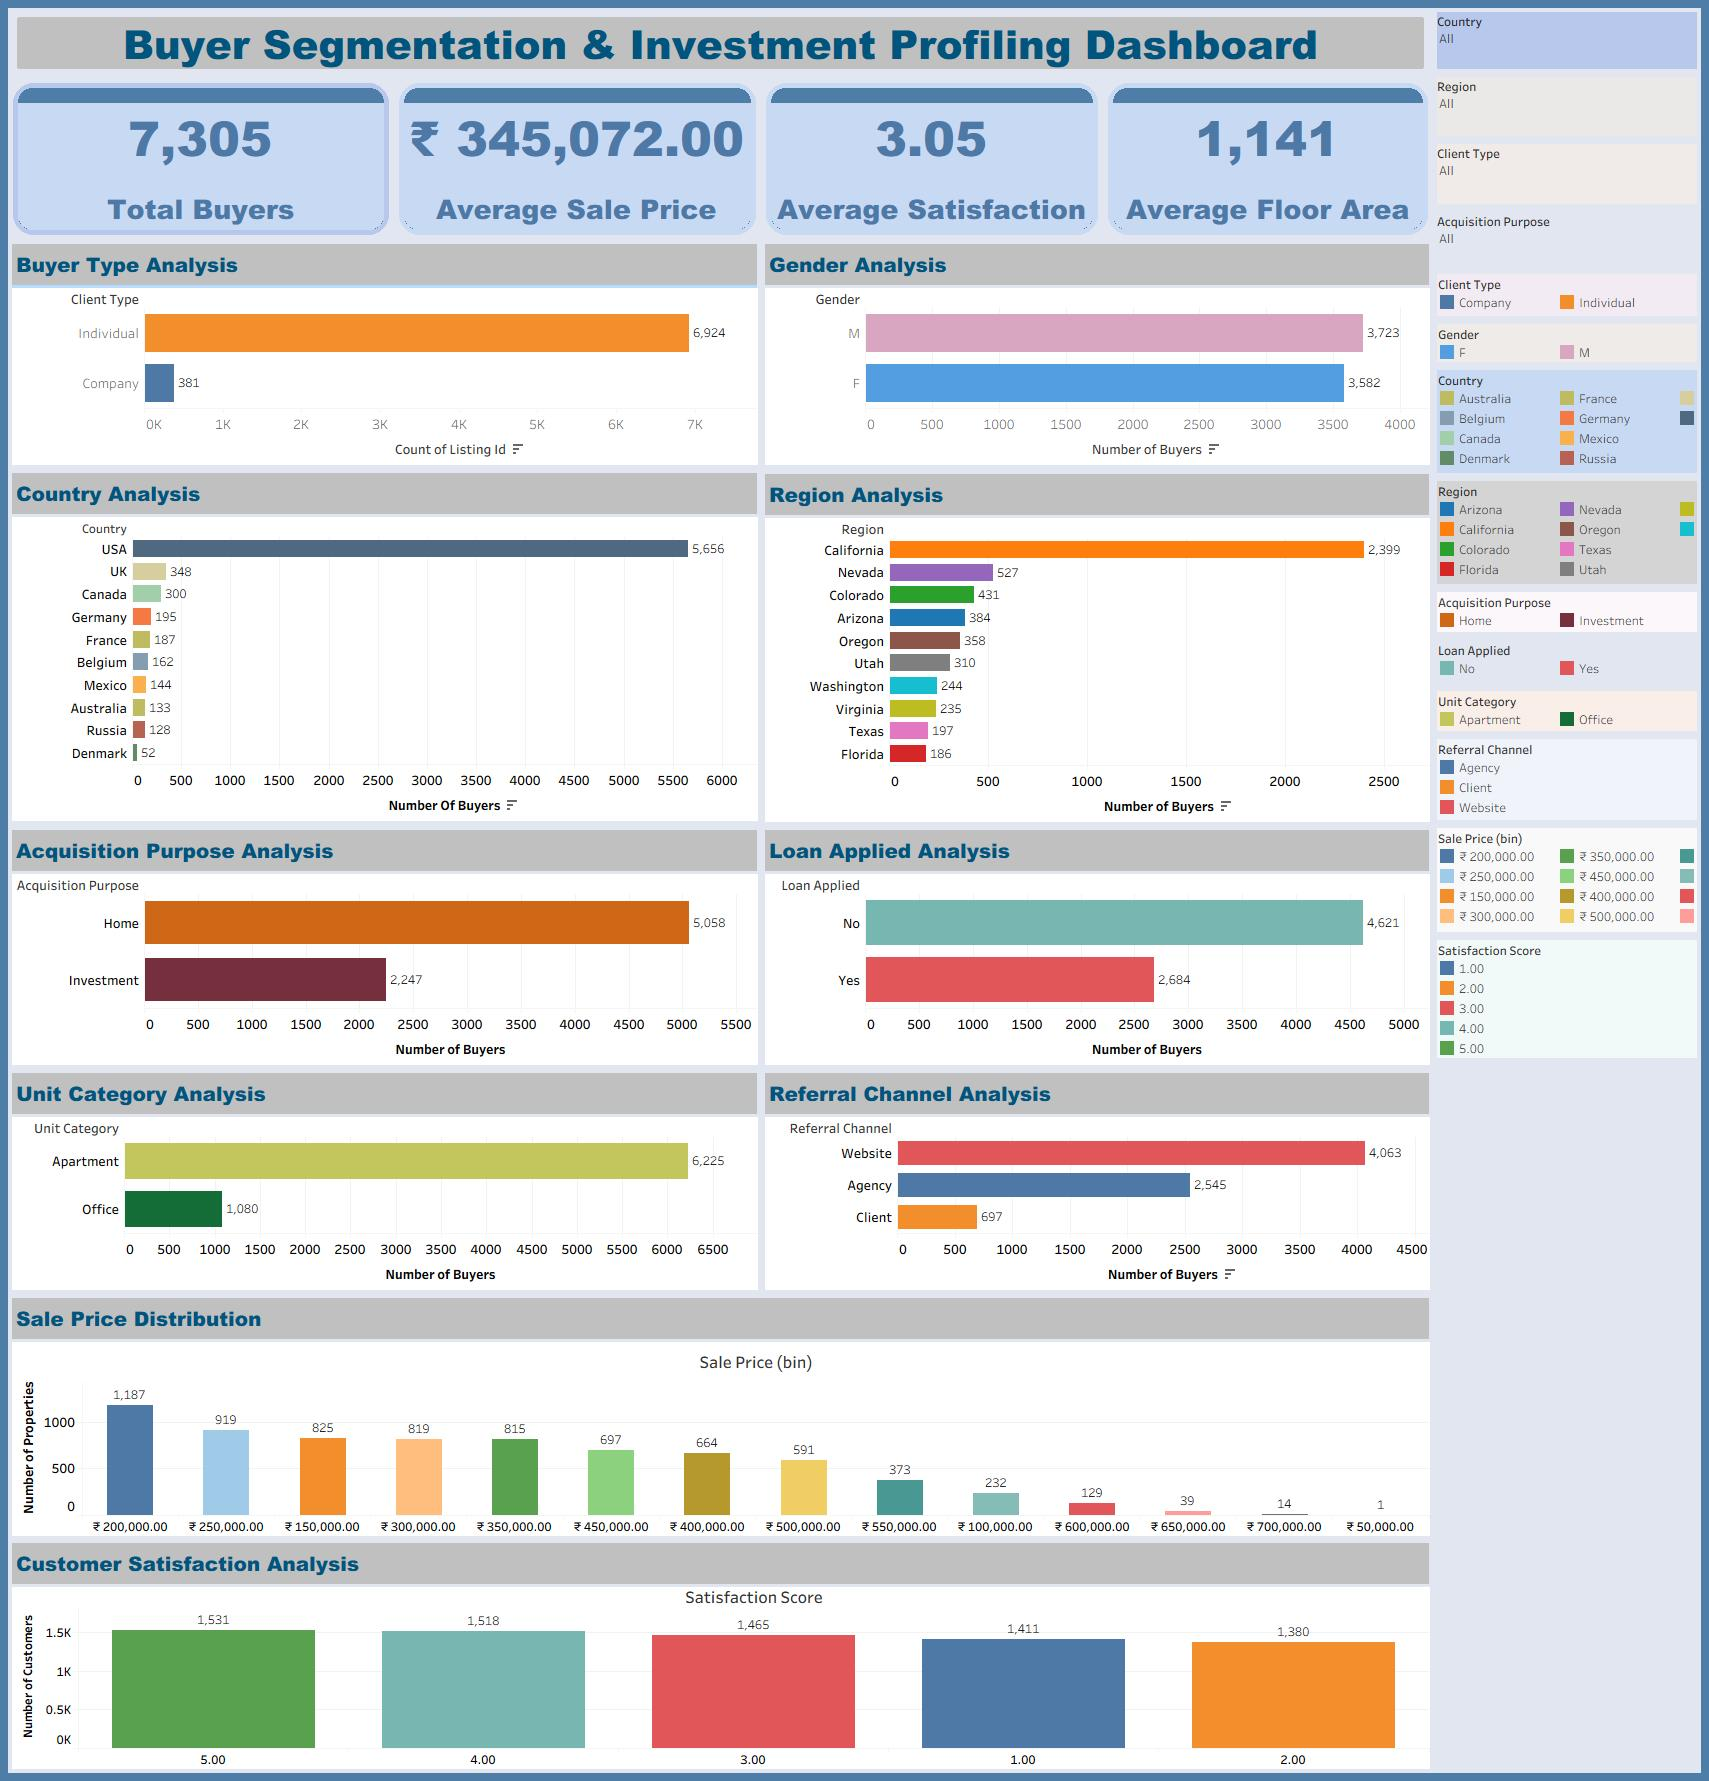

The page's visual inventory and layout, read from the dashboard file:
{"tool":"tableau","page":{"name":"Buyer Segmentation & Investment Profiling Dashboard","canvas":[1709,1781],"ordinal":0},"visuals":[{"type":"title","box":[8,8,1425,70]},{"type":"filter","title":"Country Analysis","param":"[federated.15mhhjs0jt5frl1bxlxoh1y1yubt].[none:country:nk]","box":[1433,8,268,65]},{"type":"filter","title":"Region Analysis","param":"[federated.15mhhjs0jt5frl1bxlxoh1y1yubt].[none:region:nk]","box":[1433,73,268,67]},{"type":"worksheet","title":"KPI - Total Buyers","mark":"Automatic","box":[8,78,386.4,162.5]},{"type":"worksheet","title":"KPI - Average Sale Price","mark":"Text","box":[394.4,78,366.3,162.5]},{"type":"worksheet","title":"KPI - Average Satisfaction","mark":"Automatic","box":[760.7,78,342.2,162.5]},{"type":"worksheet","title":"KPI - Average Floor Area","mark":"Automatic","box":[1102.9,78,330.1,162.5]},{"type":"filter","title":"Buyer Type Analysis","param":"[federated.15mhhjs0jt5frl1bxlxoh1y1yubt].[none:client_type:nk]","box":[1433,140,268,68]},{"type":"filter","title":"Acquisition Purpose Analysis","param":"[federated.15mhhjs0jt5frl1bxlxoh1y1yubt].[none:acquisition_purpose:nk]","box":[1433,208,268,62]},{"type":"worksheet","title":"Buyer Type Analysis","mark":"Automatic","rows":["client_type"],"cols":["listing_id"],"box":[8,240.5,752.7,228.9]},{"type":"worksheet","title":"Gender Analysis","mark":"Automatic","rows":["gender"],"cols":["listing_id"],"box":[760.7,240.5,672.3,229]},{"type":"legend","title":"Buyer Type Analysis","param":"[federated.15mhhjs0jt5frl1bxlxoh1y1yubt].[none:client_type:nk]","box":[1433,270,268,50]},{"type":"legend","title":"Gender Analysis","param":"[federated.15mhhjs0jt5frl1bxlxoh1y1yubt].[none:gender:nk]","box":[1433,320,268,46]},{"type":"legend","title":"Country Analysis","param":"[federated.15mhhjs0jt5frl1bxlxoh1y1yubt].[none:country:nk]","box":[1433,366,268,111.2]},{"type":"worksheet","title":"Country Analysis","mark":"Automatic","rows":["country"],"cols":["listing_id"],"box":[8,469.4,752.7,356.4]},{"type":"worksheet","title":"Region Analysis","mark":"Automatic","rows":["region"],"cols":["listing_id"],"box":[760.7,469.5,672.3,356.3]},{"type":"legend","title":"Region Analysis","param":"[federated.15mhhjs0jt5frl1bxlxoh1y1yubt].[none:region:nk]","box":[1433,477.2,268,111.2]},{"type":"legend","title":"Acquisition Purpose Analysis","param":"[federated.15mhhjs0jt5frl1bxlxoh1y1yubt].[none:acquisition_purpose:nk]","box":[1433,588.4,268,48]},{"type":"legend","title":"Loan Applied Analysis","param":"[federated.15mhhjs0jt5frl1bxlxoh1y1yubt].[none:loan_applied:nk]","box":[1433,636.4,268,51]},{"type":"legend","title":"Unit Category Analysis","param":"[federated.15mhhjs0jt5frl1bxlxoh1y1yubt].[none:unit_category:nk]","box":[1433,687.4,268,48]},{"type":"legend","title":"Referral Channel Analysis","param":"[federated.15mhhjs0jt5frl1bxlxoh1y1yubt].[none:referral_channel:nk]","box":[1433,735.4,268,89]},{"type":"legend","title":"Sale Price Distribution","param":"[federated.15mhhjs0jt5frl1bxlxoh1y1yubt].[none:Sale Price (bin):ok]","box":[1433,824.4,268,111.2]},{"type":"worksheet","title":"Acquisition Purpose Analysis","mark":"Automatic","rows":["acquisition_purpose"],"cols":["listing_id"],"box":[8,825.8,752.7,242.9]},{"type":"worksheet","title":"Loan Applied Analysis","mark":"Automatic","rows":["loan_applied"],"cols":["listing_id"],"box":[760.7,825.8,672.3,242.9]},{"type":"legend","title":"Customer Satisfaction Analysis","param":"[federated.15mhhjs0jt5frl1bxlxoh1y1yubt].[none:satisfaction_score:ok]","box":[1433,935.6,268,126]},{"type":"worksheet","title":"Unit Category Analysis","mark":"Automatic","rows":["unit_category"],"cols":["listing_id"],"box":[8,1068.8,752.7,225]},{"type":"worksheet","title":"Referral Channel Analysis","mark":"Automatic","rows":["referral_channel"],"cols":["listing_id"],"box":[760.7,1068.8,672.3,225]},{"type":"worksheet","title":"Sale Price Distribution","mark":"Bar","rows":["listing_id"],"cols":["Sale Price (bin)"],"box":[8,1293.8,1425,245.6]},{"type":"worksheet","title":"Customer Satisfaction Analysis","mark":"Bar","rows":["listing_id"],"cols":["satisfaction_score"],"box":[8,1539.4,1425,233.6]}]}

Visuals, with their boxes in screenshot pixels (x1, y1, x2, y2), scaled from the page's 1709x1781 canvas onto the 1709x1781 screenshot:
title: 8,8,1433,78
"Country Analysis" filter: 1433,8,1701,73
"Region Analysis" filter: 1433,73,1701,140
"KPI - Total Buyers" worksheet: 8,78,394,240
"KPI - Average Sale Price" worksheet (Text marks): 394,78,761,240
"KPI - Average Satisfaction" worksheet: 761,78,1103,240
"KPI - Average Floor Area" worksheet: 1103,78,1433,240
"Buyer Type Analysis" filter: 1433,140,1701,208
"Acquisition Purpose Analysis" filter: 1433,208,1701,270
"Buyer Type Analysis" worksheet: 8,240,761,469
"Gender Analysis" worksheet: 761,240,1433,470
"Buyer Type Analysis" legend: 1433,270,1701,320
"Gender Analysis" legend: 1433,320,1701,366
"Country Analysis" legend: 1433,366,1701,477
"Country Analysis" worksheet: 8,469,761,826
"Region Analysis" worksheet: 761,470,1433,826
"Region Analysis" legend: 1433,477,1701,588
"Acquisition Purpose Analysis" legend: 1433,588,1701,636
"Loan Applied Analysis" legend: 1433,636,1701,687
"Unit Category Analysis" legend: 1433,687,1701,735
"Referral Channel Analysis" legend: 1433,735,1701,824
"Sale Price Distribution" legend: 1433,824,1701,936
"Acquisition Purpose Analysis" worksheet: 8,826,761,1069
"Loan Applied Analysis" worksheet: 761,826,1433,1069
"Customer Satisfaction Analysis" legend: 1433,936,1701,1062
"Unit Category Analysis" worksheet: 8,1069,761,1294
"Referral Channel Analysis" worksheet: 761,1069,1433,1294
"Sale Price Distribution" worksheet (Bar marks): 8,1294,1433,1539
"Customer Satisfaction Analysis" worksheet (Bar marks): 8,1539,1433,1773
